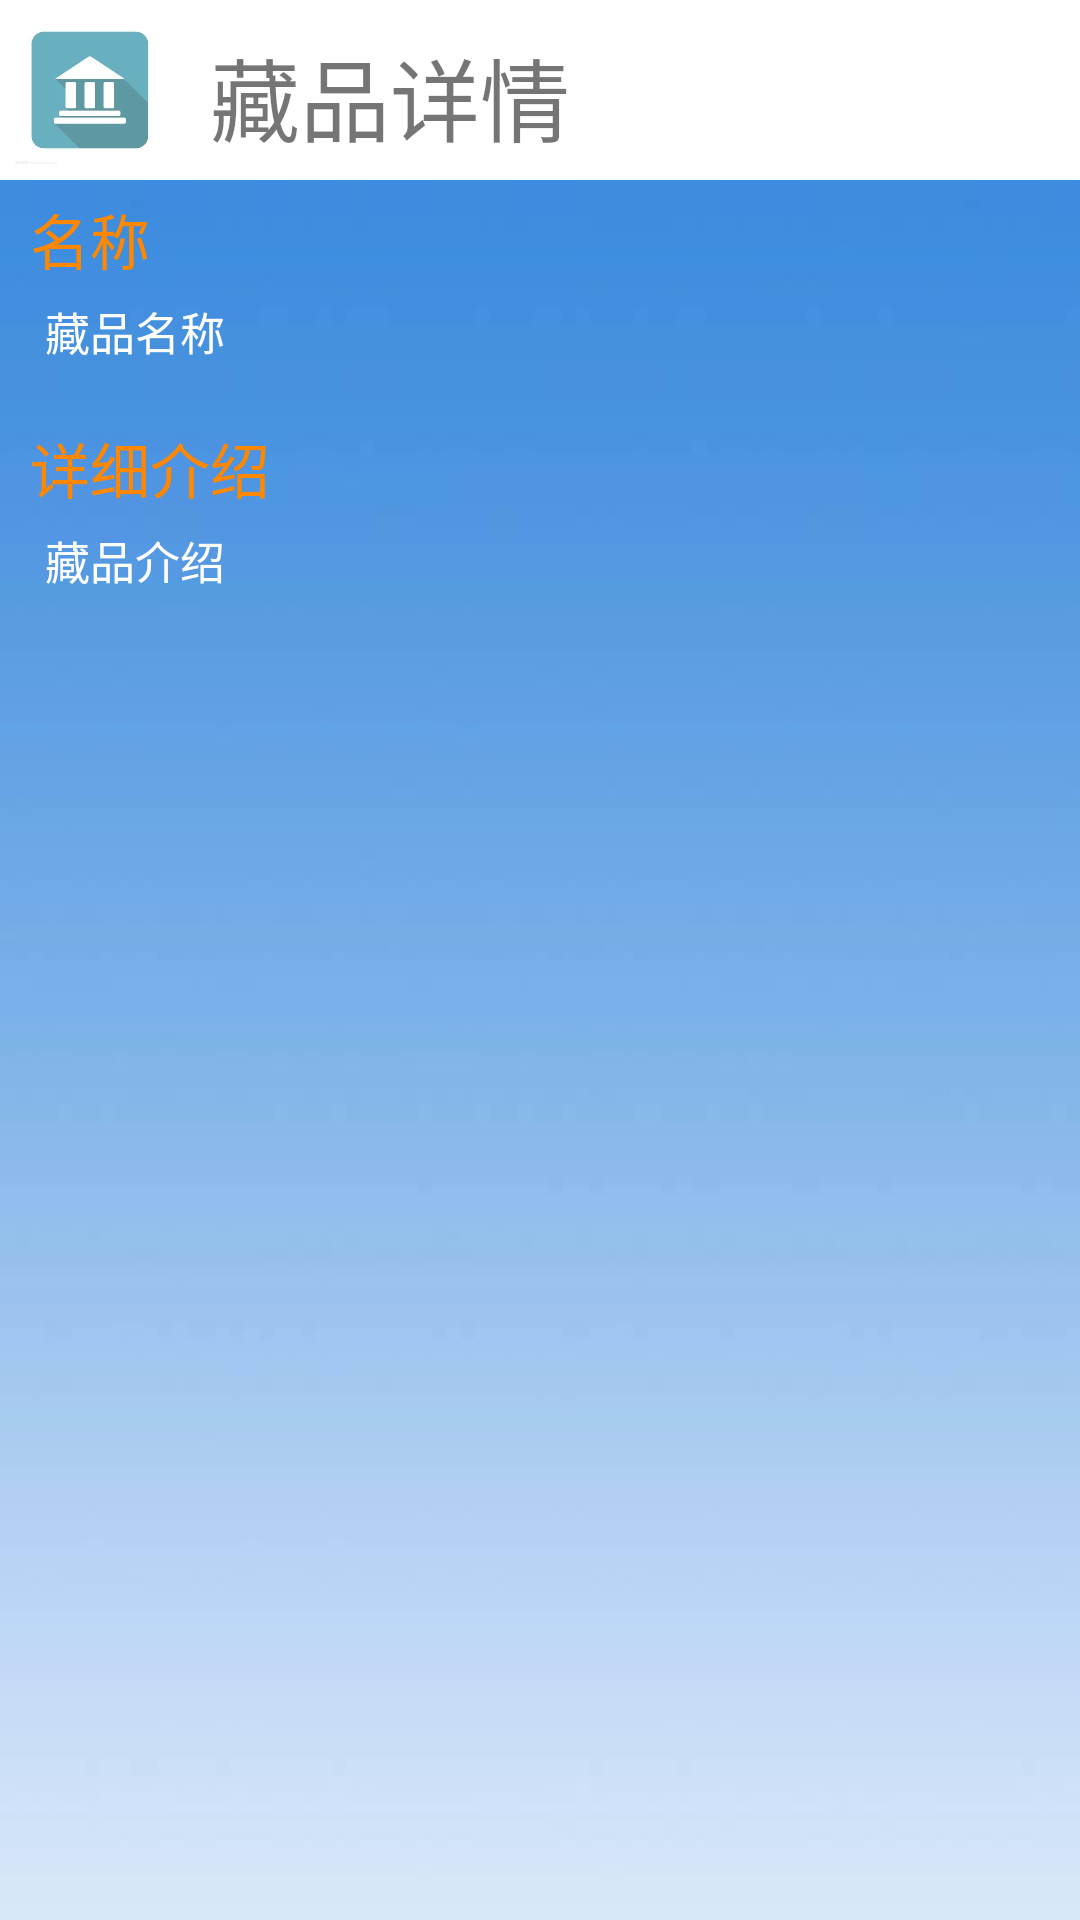

Named icons in this screenshot (1080px x 1920px) and their centers, [x,y]:
museumdet: [90,90]
